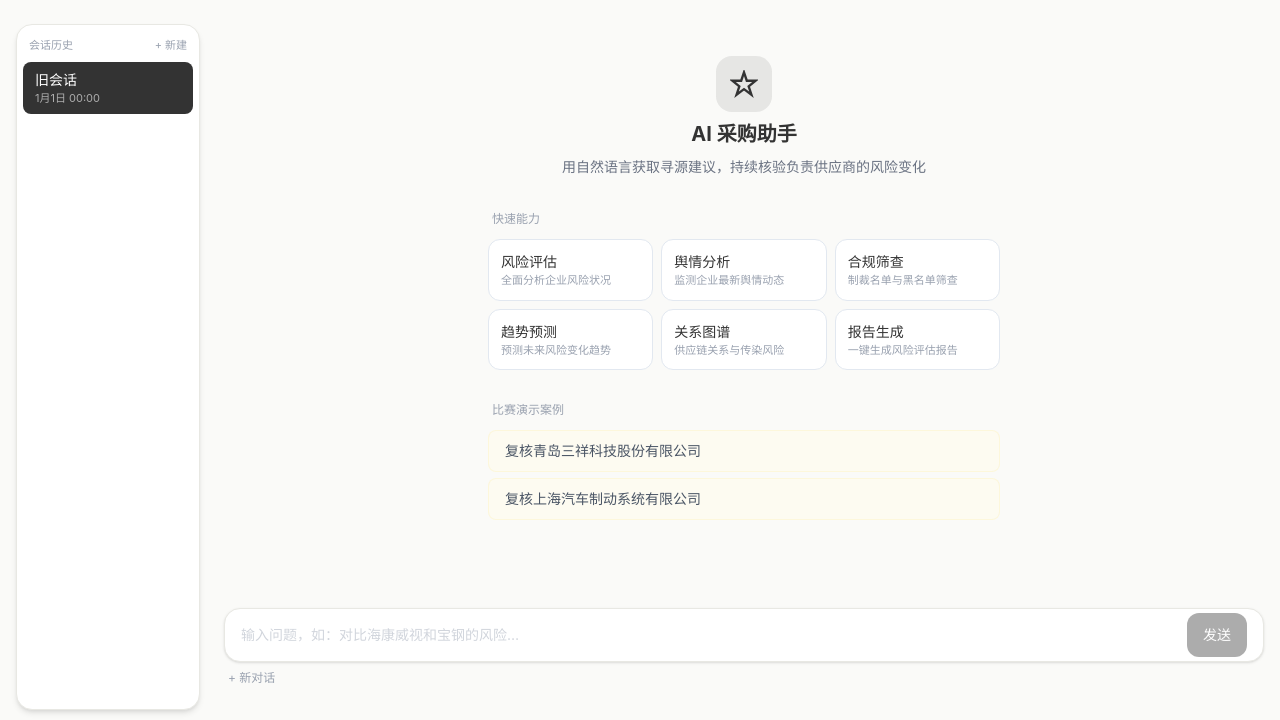
Test: ChatView session lifecycle › persists a visible status when the stream closes without a terminal event
Type "分析供应商风险" into the field named "向 AI 采购助手提问" at x=710, y=635, box [241,615,1179,655]
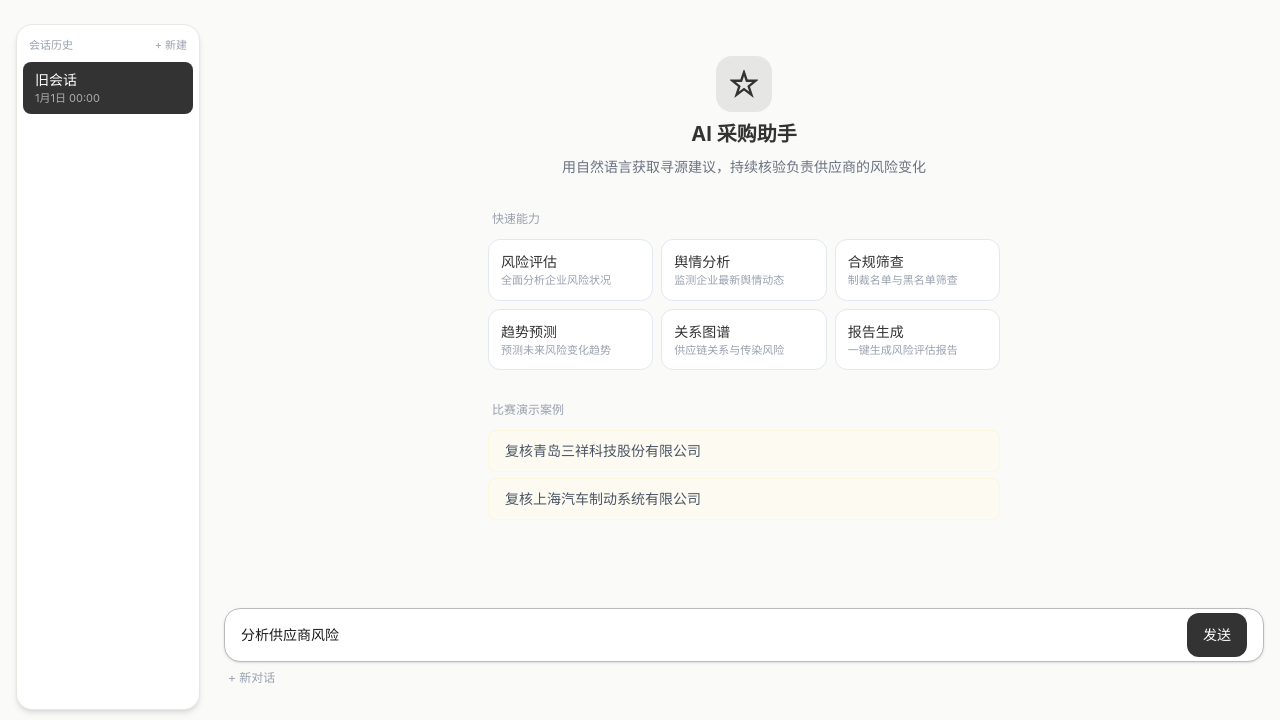
Click the button "发送" at x=1217, y=635, box [1187,613,1247,657]
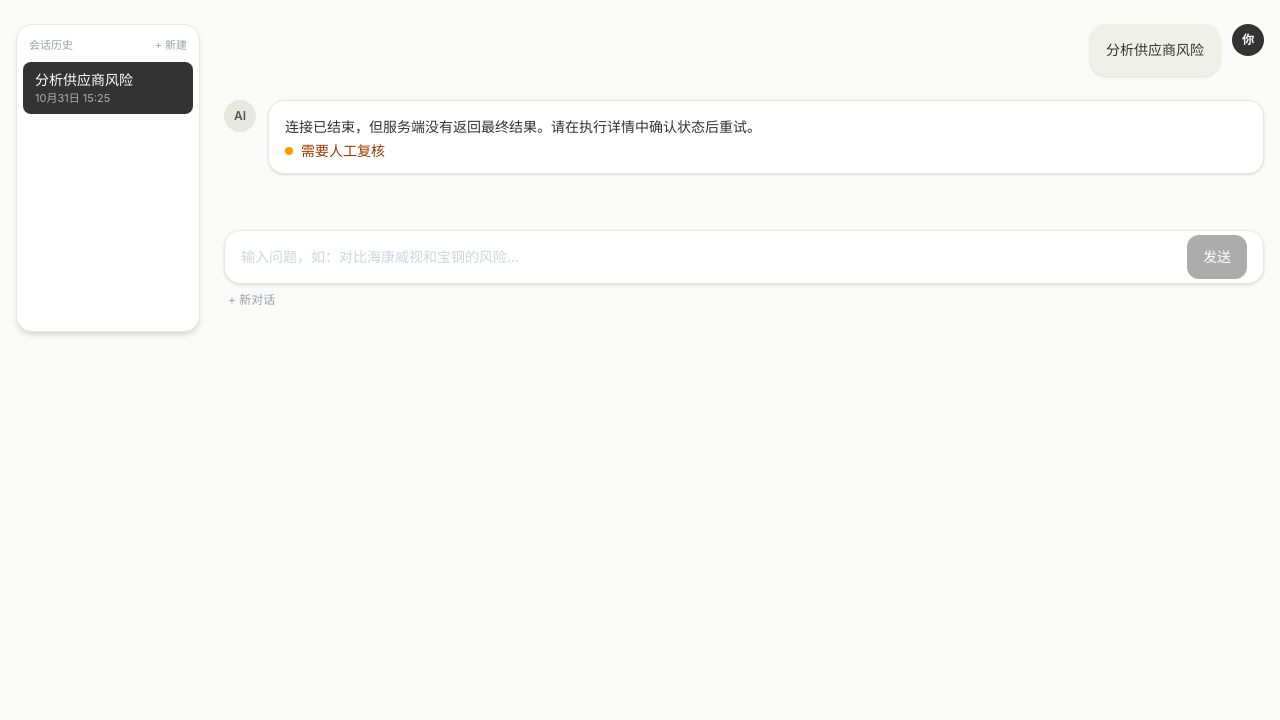
Result: the text "连接已结束，但服务端没有返回最终结果。请在执行详情中确认状态后重试。" is shown once at [285,118,761,135]
Result: the message reads "需要人工复核" at [301,142,385,159]
